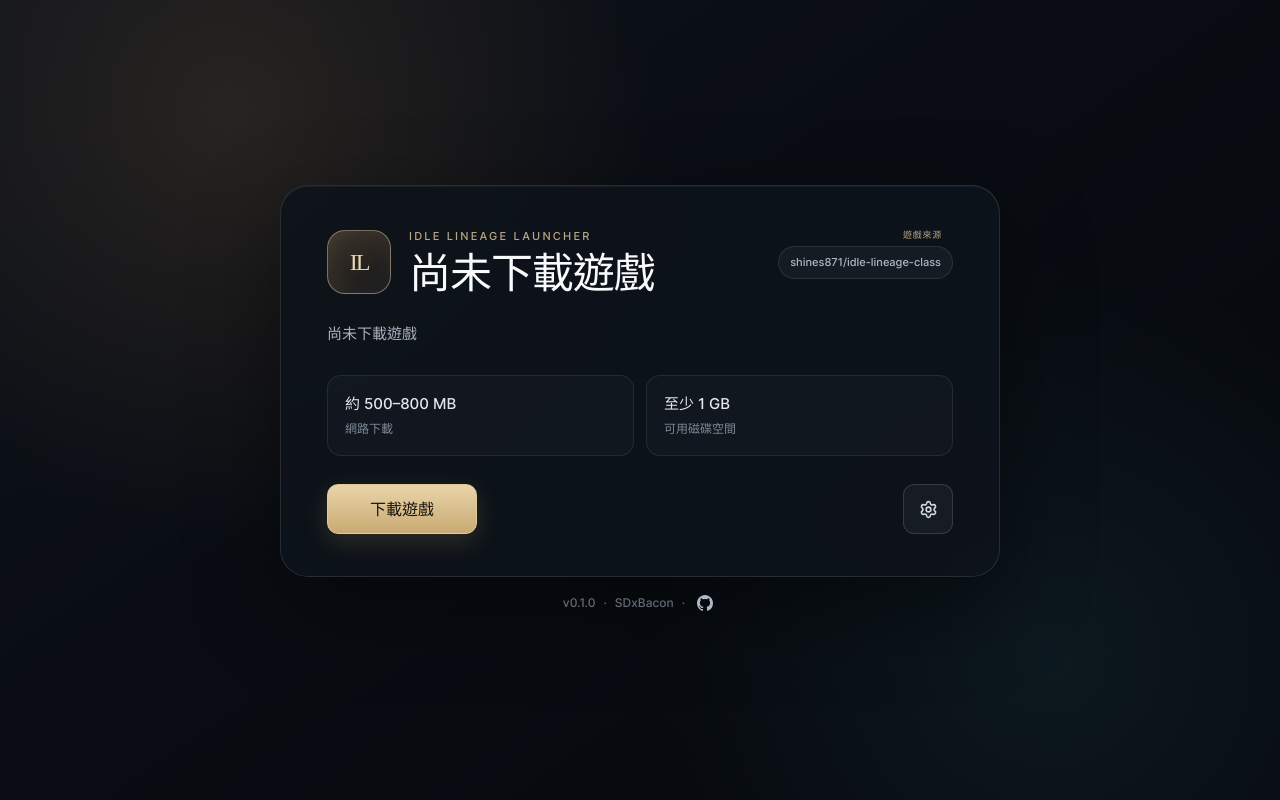
Test: App › restores an uninstalled custom folder to the default root
The width and height of the screenshot is (1280, 800).
Click the button named "開啟啟動器設置頁" at (928, 509), box [903, 484, 953, 534]
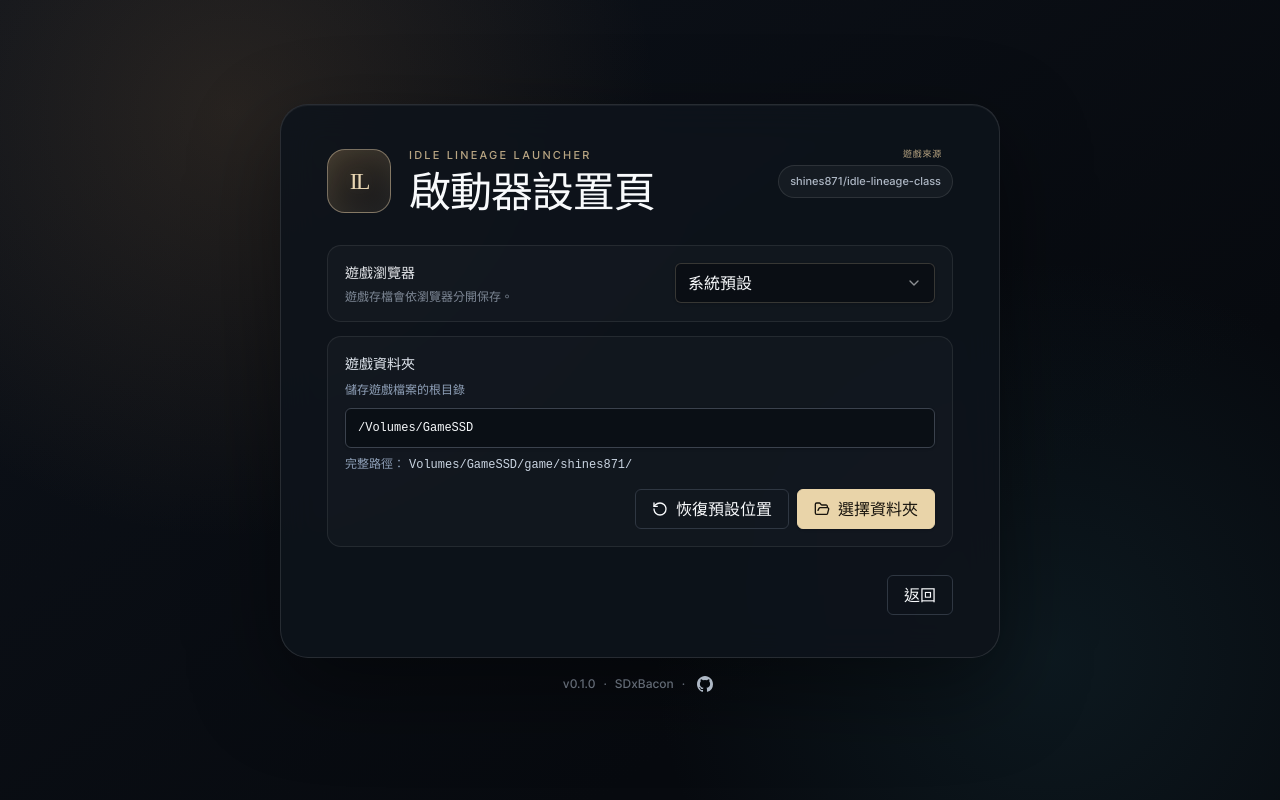
Check: the field showing "/Volumes/GameSSD" is shown, box [345, 408, 935, 448]
Click the button "恢復預設位置" at (712, 509), box [635, 489, 789, 529]
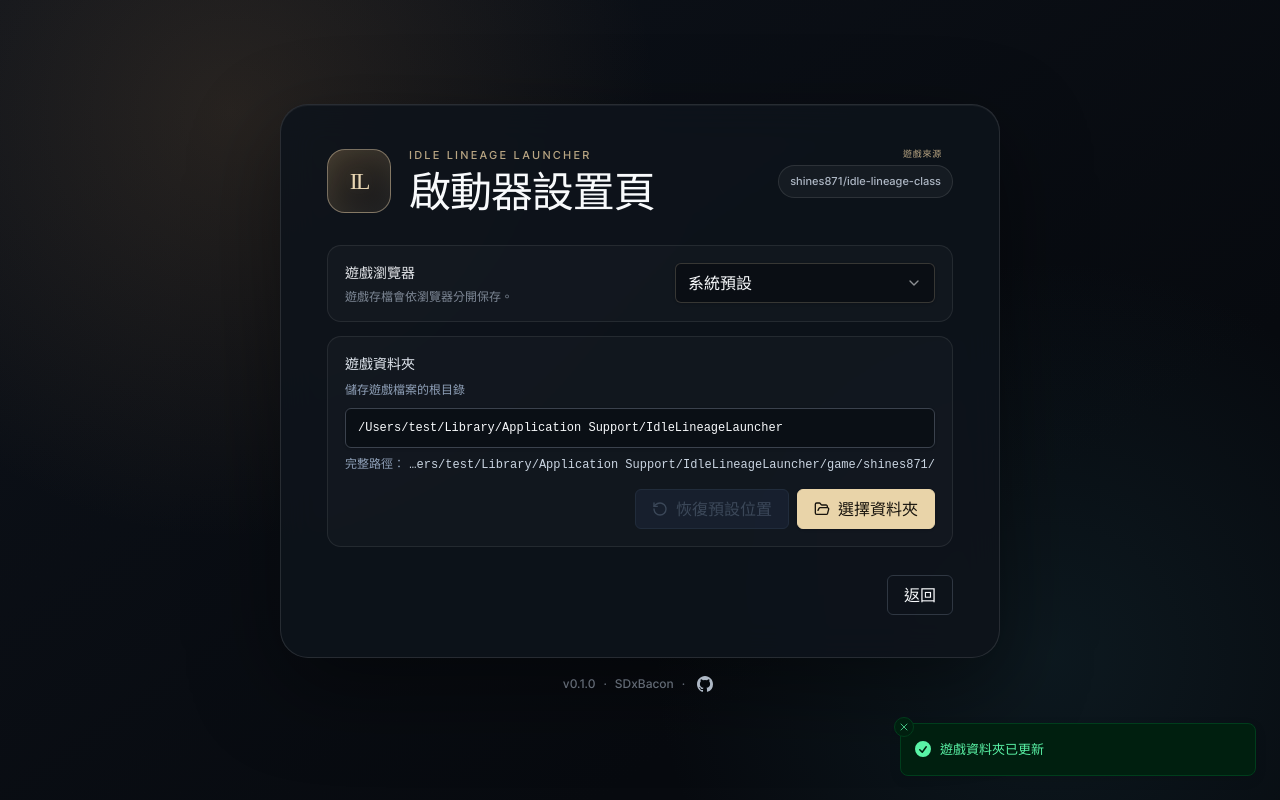
Check: the field showing "/Users/test/Library/Application Support/IdleLineageLauncher" is shown, box [345, 408, 935, 448]
Check: the button "恢復預設位置" is disabled, box [635, 489, 789, 529]
